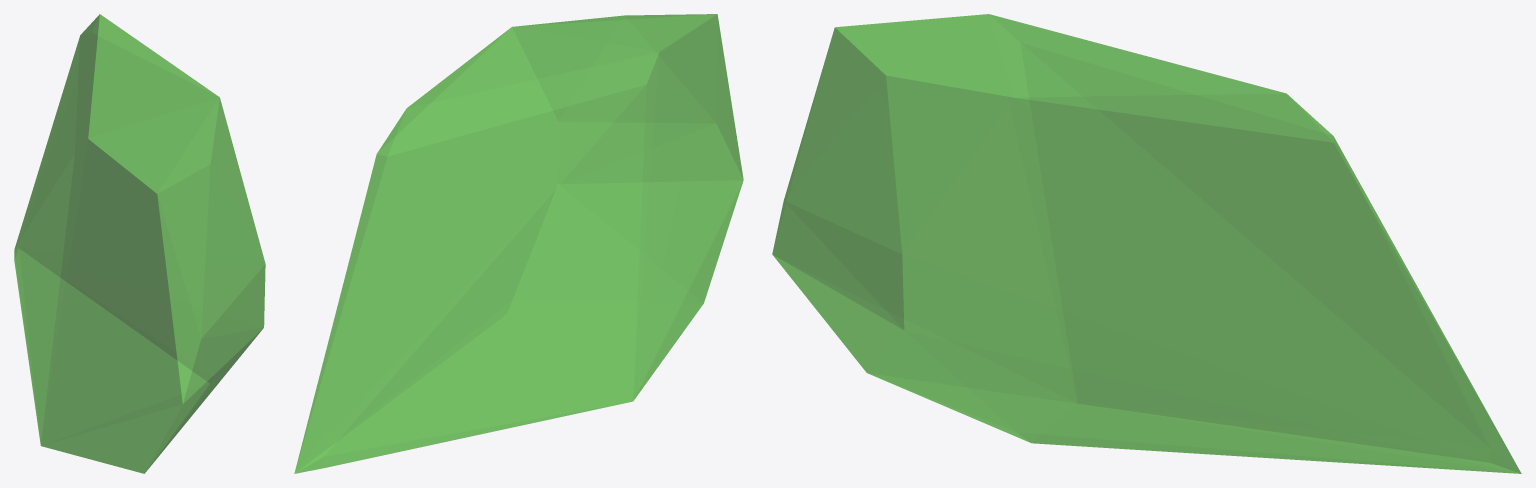
3 renders of one model, left to right at view 1: azimuth 30°, elevation 25°; view 2: azimuth 150°, elevation 25°; view 3: azimuth 270°, elevation 25°, orthographic. The views are drawn at different scales.
Parts seen in each view (by area): view 1: Shape_IndexedFaceSet.014_Shape_IndexedFaceSet.20391; view 2: Shape_IndexedFaceSet.014_Shape_IndexedFaceSet.20391; view 3: Shape_IndexedFaceSet.014_Shape_IndexedFaceSet.20391.
Part boxes in pixels (box(x1,y1,x2,y2)): Shape_IndexedFaceSet.014_Shape_IndexedFaceSet.20391: box(14, 14, 265, 473); Shape_IndexedFaceSet.014_Shape_IndexedFaceSet.20391: box(294, 14, 743, 473); Shape_IndexedFaceSet.014_Shape_IndexedFaceSet.20391: box(772, 14, 1521, 473).
Size of the model in its own units: 0.1104 by 0.2129 by 0.3657.
